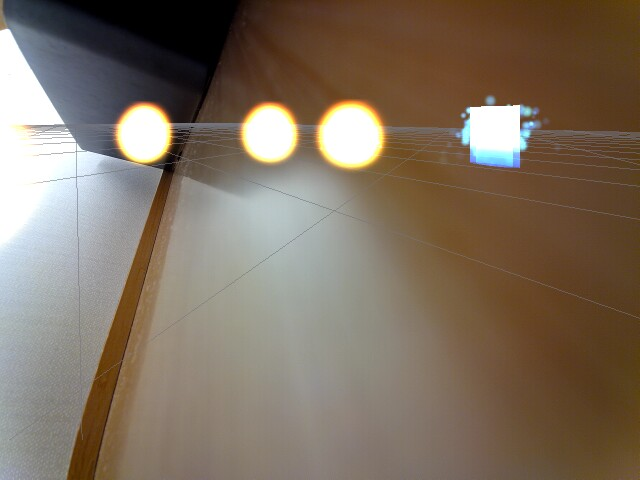firebig: (0, 99, 45, 251)
